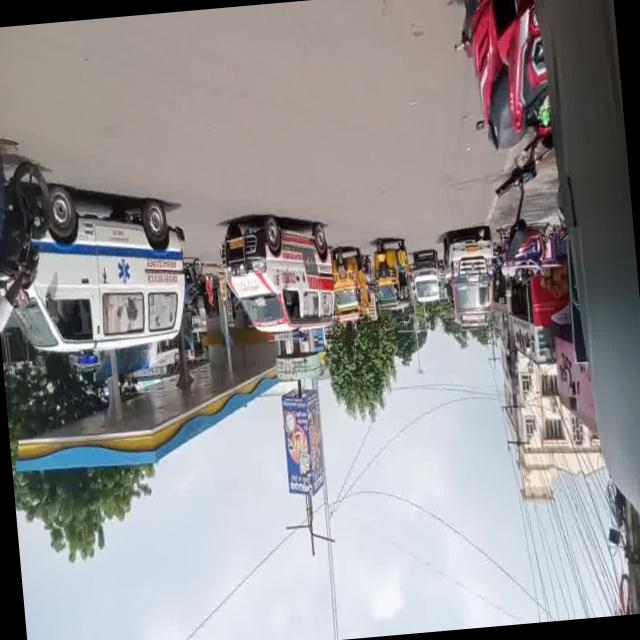ambulance: (11, 206, 204, 356), (220, 204, 338, 345), (440, 230, 506, 340)
